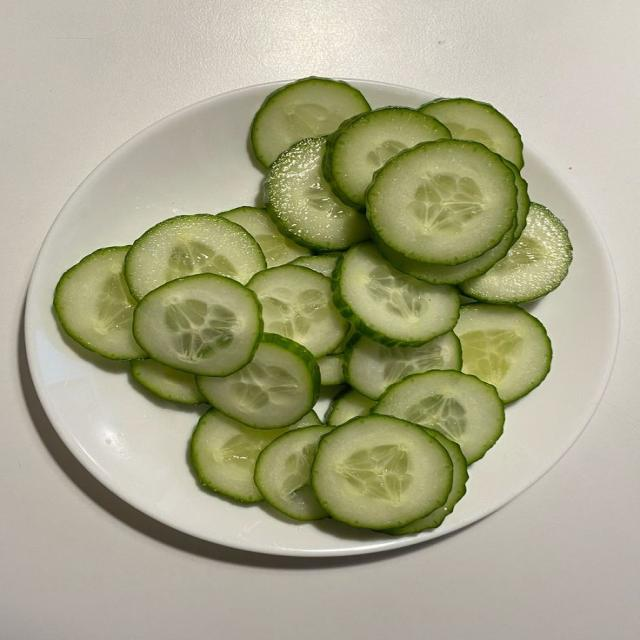cucumber sliced: (374, 161, 529, 283), (367, 140, 517, 265), (311, 415, 453, 529), (134, 274, 262, 375), (333, 243, 459, 345), (324, 107, 451, 207), (373, 371, 504, 463), (125, 214, 266, 299), (265, 138, 369, 251), (197, 334, 319, 429), (189, 410, 314, 502), (460, 204, 572, 303), (251, 77, 369, 166), (54, 247, 145, 359), (454, 303, 552, 403), (248, 265, 348, 356), (385, 430, 468, 535), (345, 332, 461, 399), (254, 426, 332, 520), (420, 99, 523, 169), (220, 206, 310, 267), (131, 359, 206, 404), (326, 388, 375, 425), (291, 253, 341, 277), (317, 354, 345, 386)
